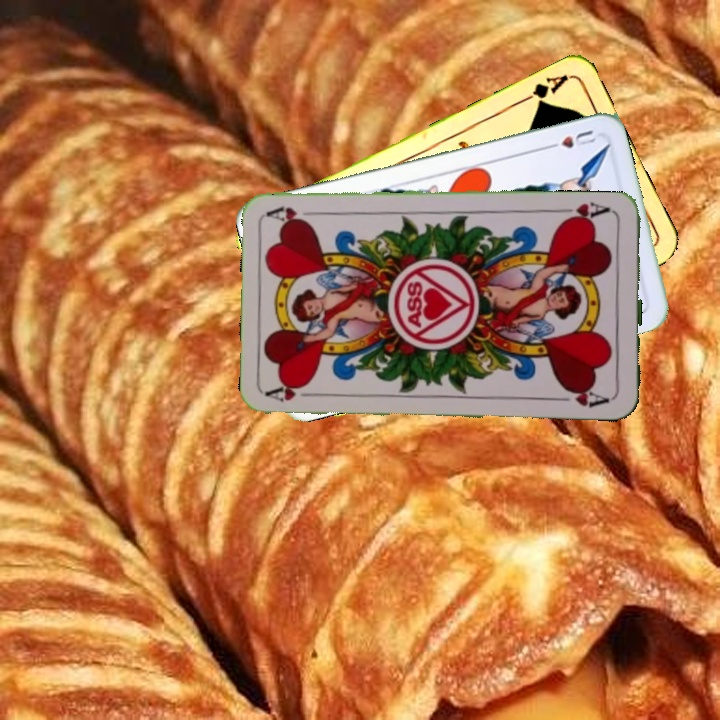GA: (516, 70, 571, 109)
HA: (557, 198, 616, 225), (264, 380, 323, 405)
HU: (541, 126, 599, 152)
